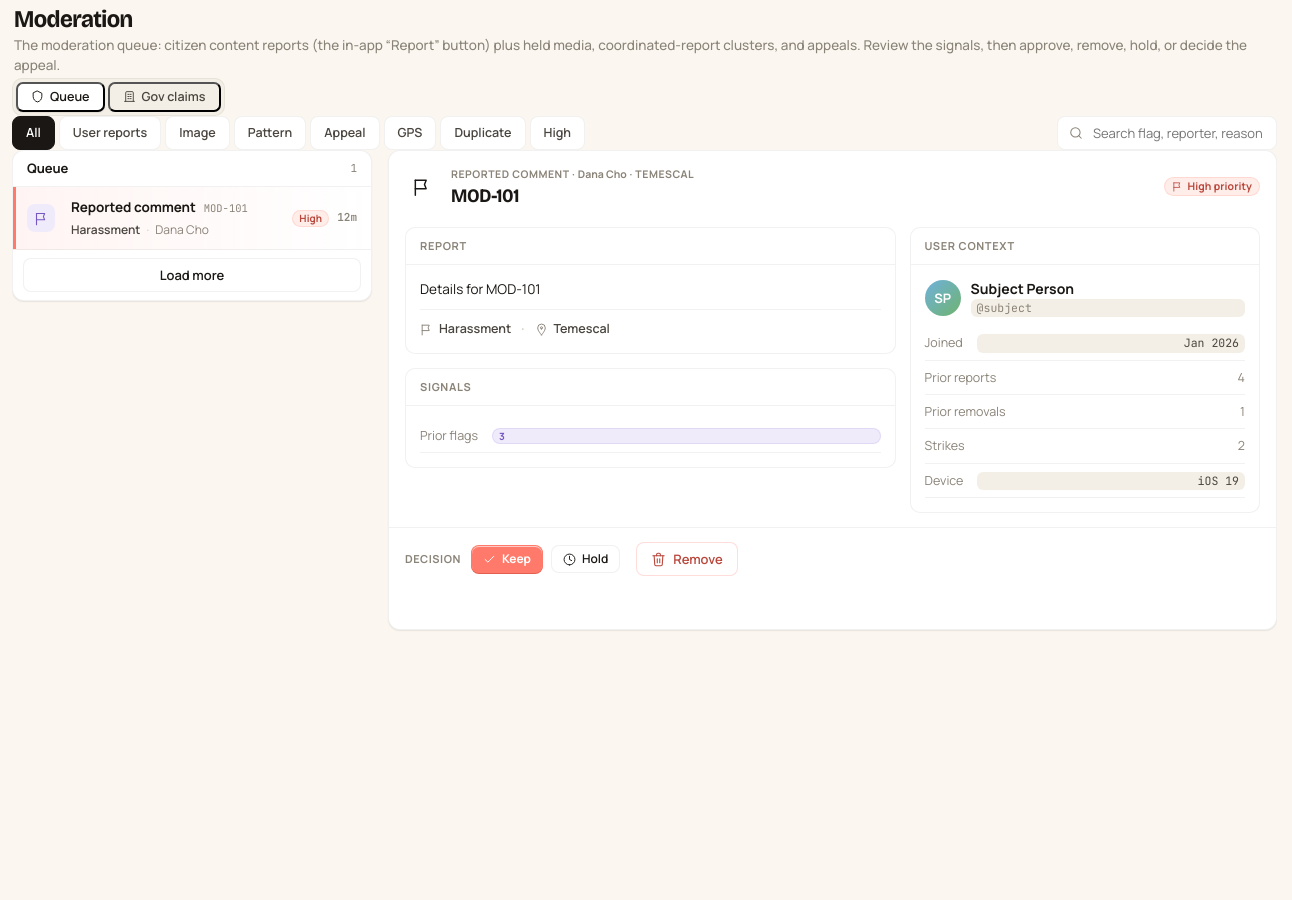
Test: ModerationPage queue › shows Load more when a cursor is returned and fetches the next page with it
The width and height of the screenshot is (1292, 900).
Expected: the text "MOD-101" is shown, [204,201,248,216]
Step 1. Click the button "Load more" → click(192, 275), box [23,258,361,292]
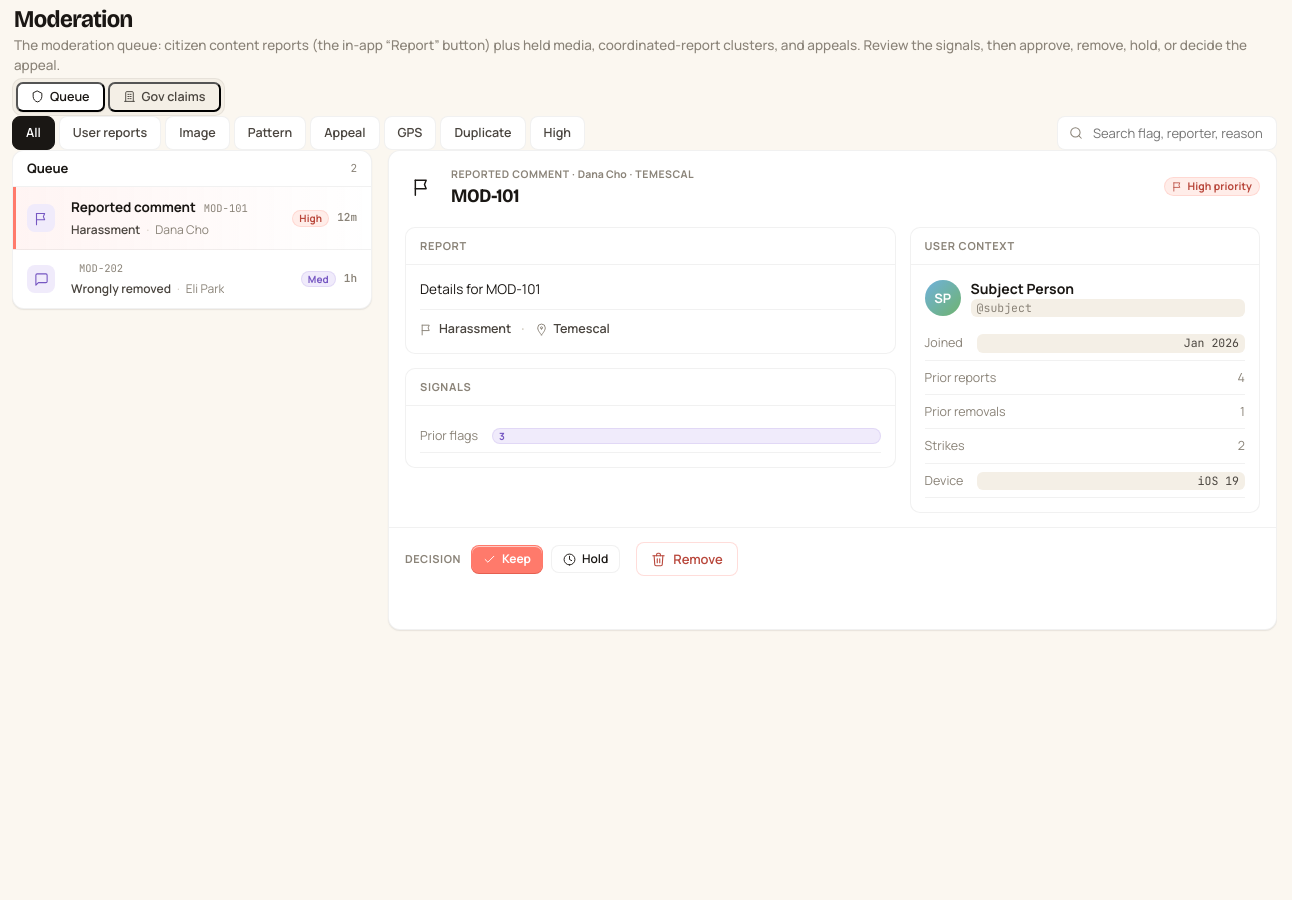
Expected: the text "MOD-202" is shown, [79,261,123,277]
Expected: the button "Load more" is gone
